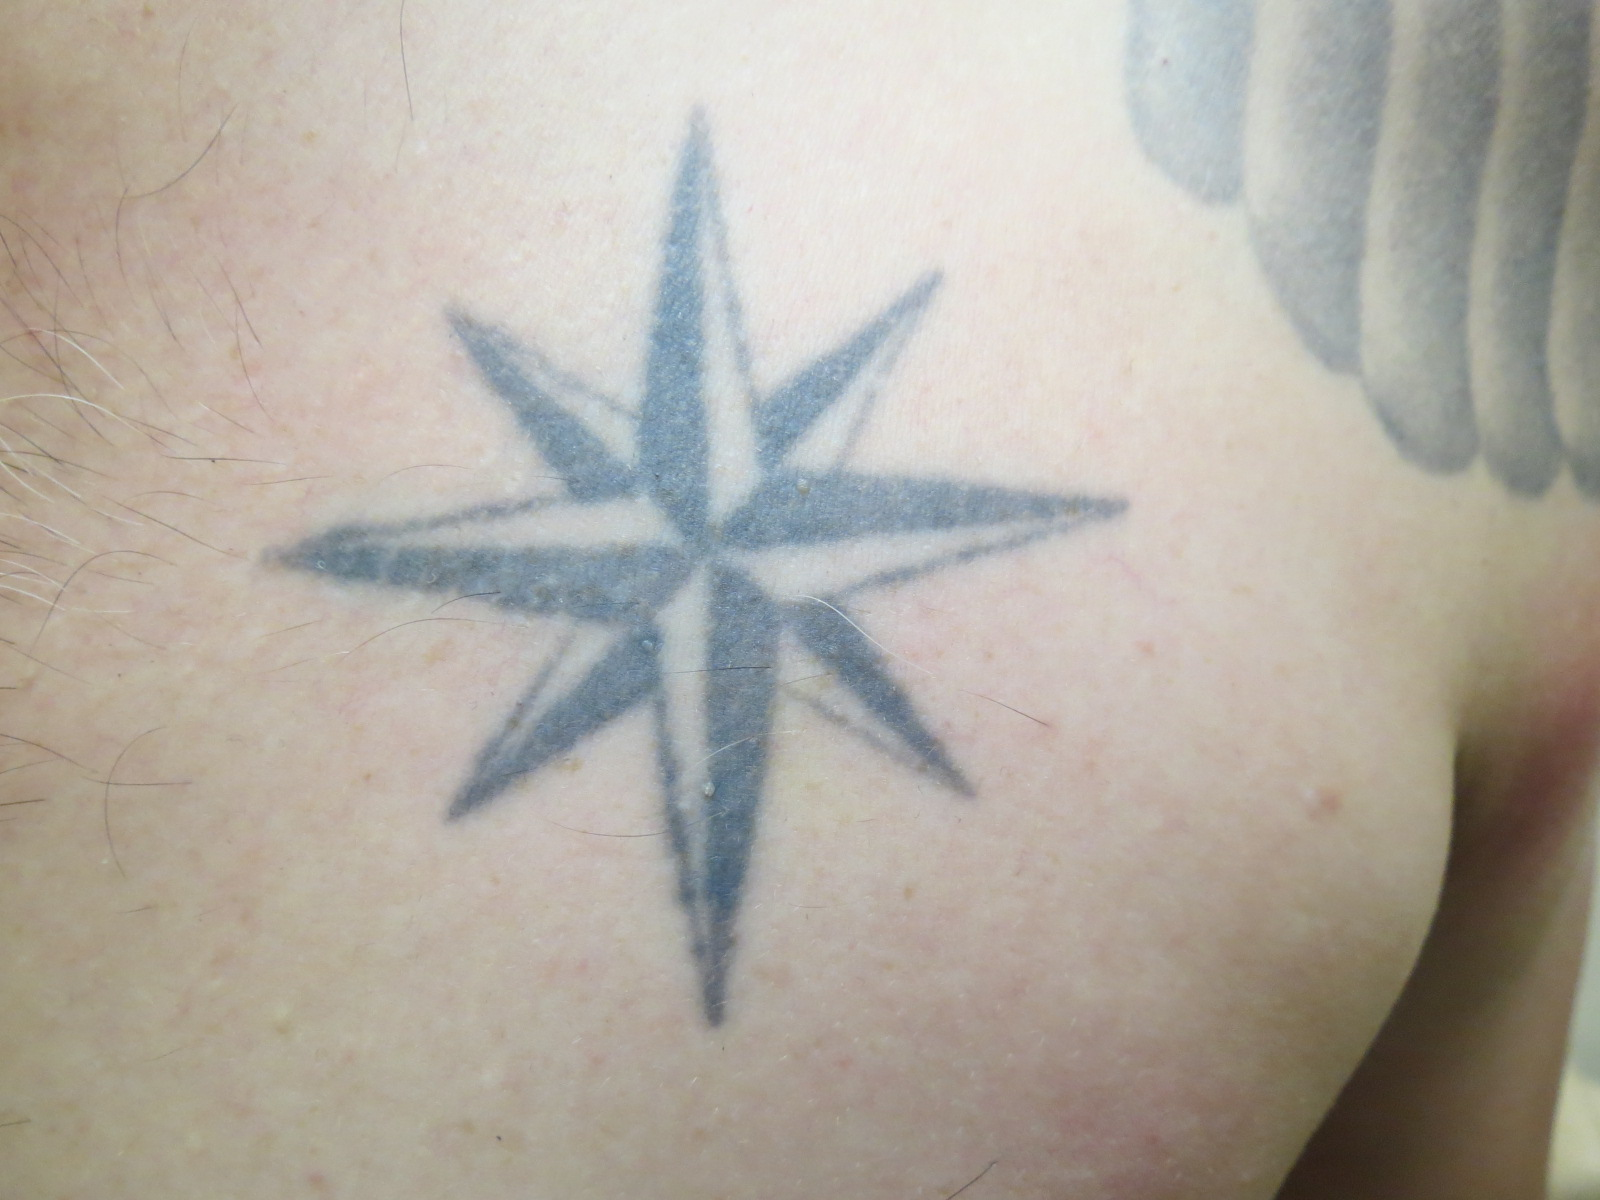tatu4_zvezda: (278, 106, 1136, 1034)
